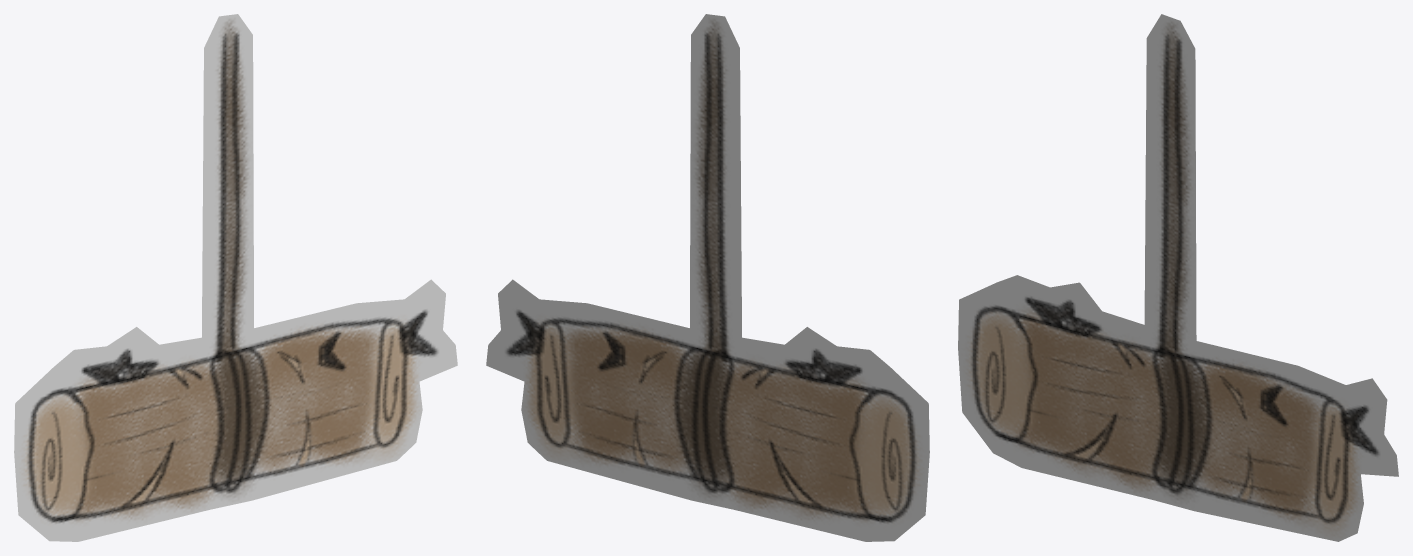
The model's file is StockSwing.fbx.
3 views of the same model, side by side, from view 1: azimuth 30°, elevation 25°; view 2: azimuth 150°, elevation 25°; view 3: azimuth 330°, elevation 25° (orthographic).
Visible parts, largest first — view 1: StockSwing; view 2: StockSwing; view 3: StockSwing.
Boxes of the visible parts, box(x1,y1,x2,y2) form: StockSwing: box(14, 14, 457, 541); StockSwing: box(486, 14, 929, 541); StockSwing: box(958, 14, 1398, 541).
Bounding box in the file's own units: 29.58 × 31.36 × 5.11e-06.
